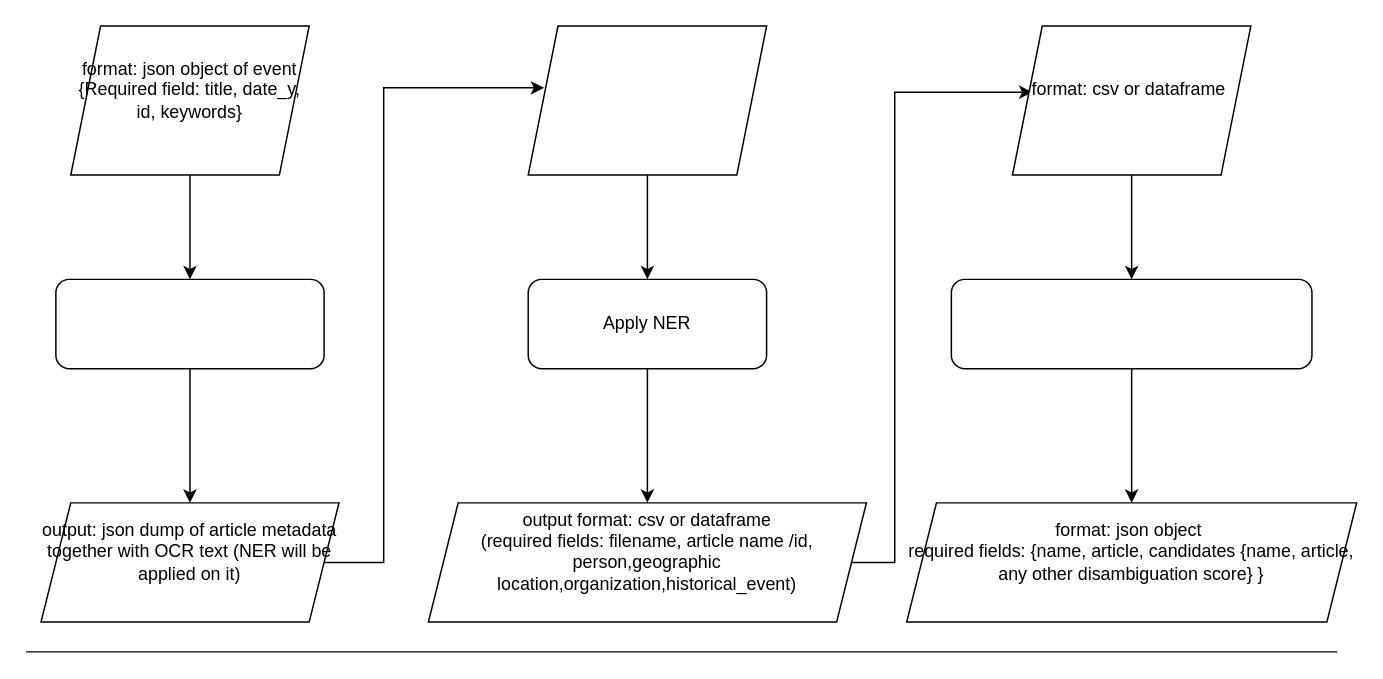
The diagram is 1383 pixels wide and 679 high, and some of its shapes have lost their labels. Each missing label, with the centre of its shape:
Apply Person Disambiguation: the point at 1131,323
format: json object {Required field: ocr (ocr text in xml format) }: the point at 647,100
Retrieve Article (script: get_article_by_events): the point at 189,323
